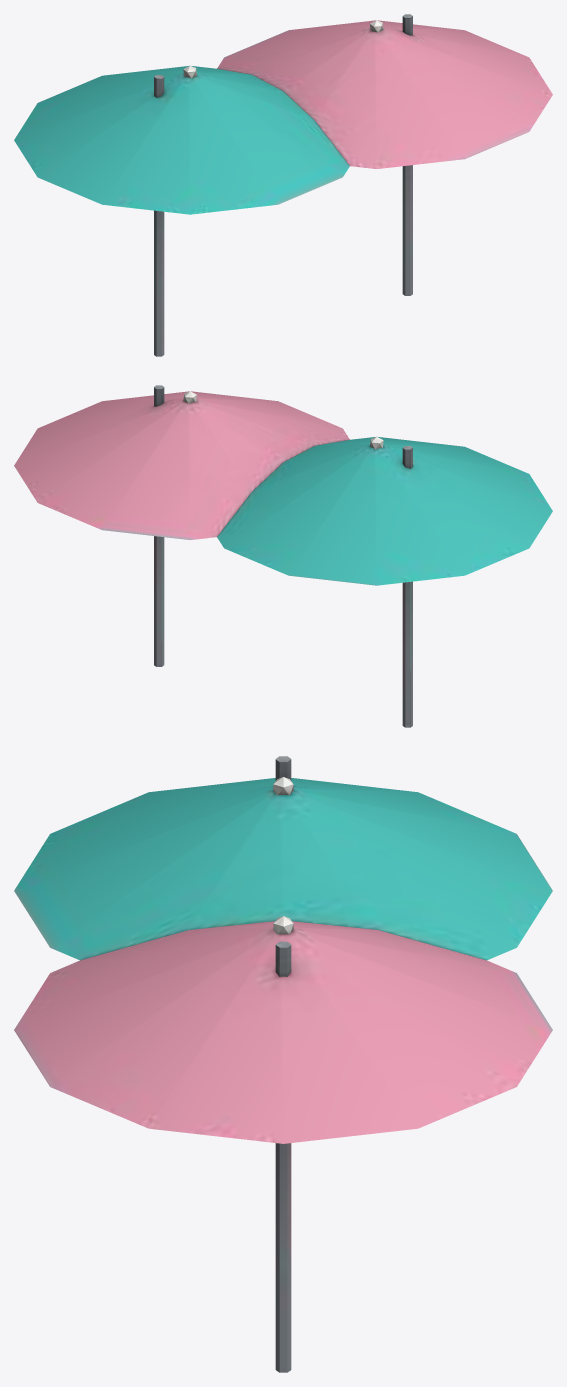
File: sombrilla.glb
3 views of the same model, one above another, from view 1: azimuth 30°, elevation 25°; view 2: azimuth 150°, elevation 25°; view 3: azimuth 270°, elevation 25° (orthographic). The views are drawn at different scales.
Visible parts, largest first — view 1: sombrilla; view 2: sombrilla; view 3: sombrilla.
Part boxes in pixels (x1=…): sombrilla: x1=14, y1=14, x2=552, y2=356; sombrilla: x1=14, y1=385, x2=552, y2=727; sombrilla: x1=14, y1=756, x2=552, y2=1372.
Bounding box in the file's own units: 4.35 × 2.38 × 2.7.
Materials: 1 (1 with a texture image).
